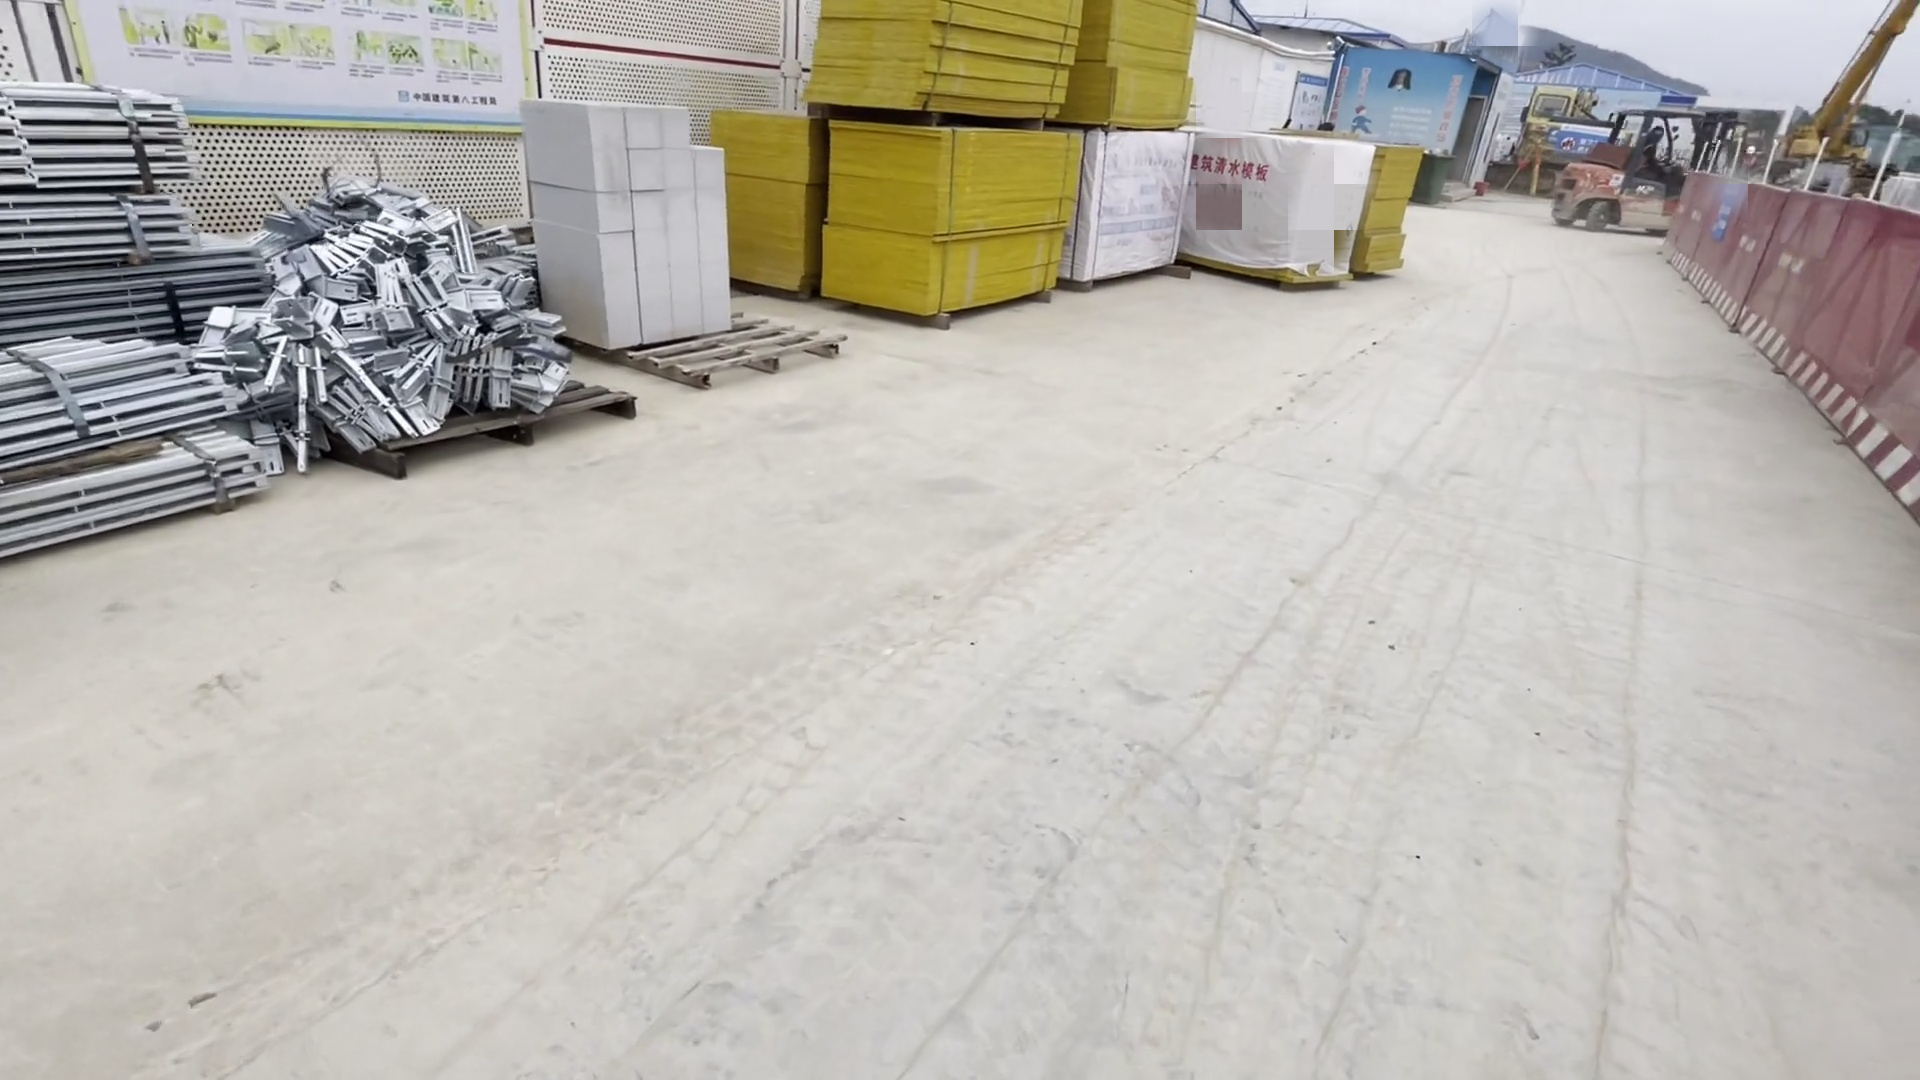board: (810, 15, 1083, 328)
brick: (506, 99, 762, 382)
fence: (1654, 185, 1908, 562)
scaffold: (1, 80, 266, 566)
